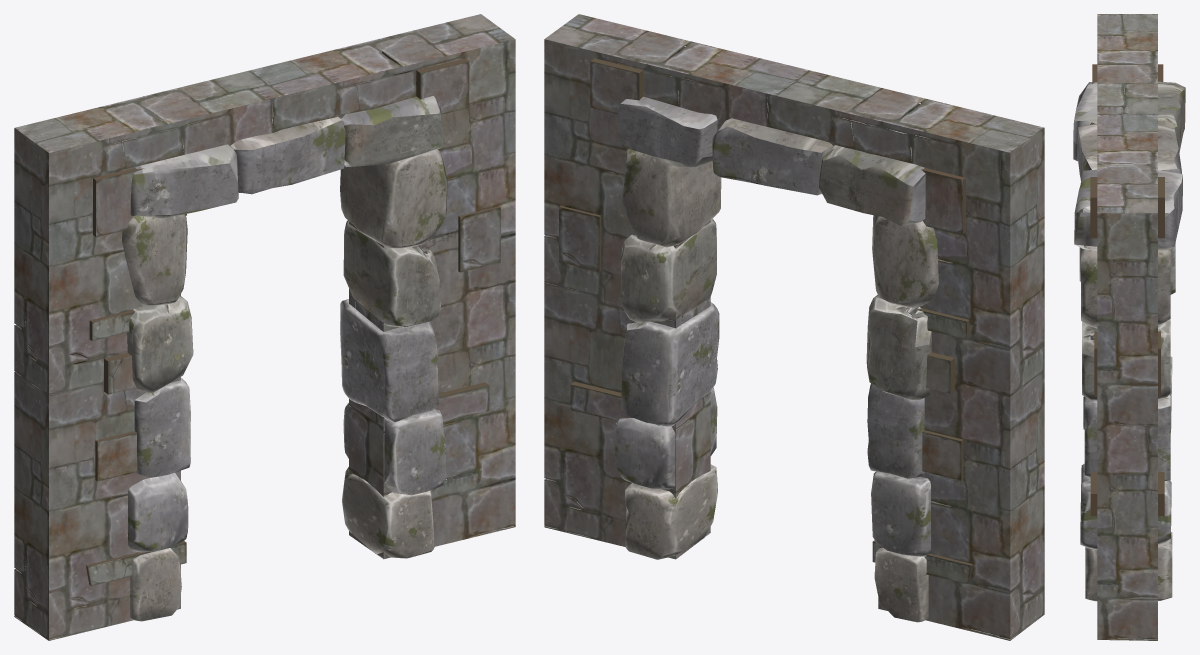
3 views of the same model, side by side, from view 1: azimuth 30°, elevation 25°; view 2: azimuth 150°, elevation 25°; view 3: azimuth 270°, elevation 25° (orthographic). The views are drawn at different scales.
Visible parts, largest first — view 1: SM_BB_T3_Wall_Large_Doorframe_LOD0; view 2: SM_BB_T3_Wall_Large_Doorframe_LOD0; view 3: SM_BB_T3_Wall_Large_Doorframe_LOD0.
Boxes of the visible parts, box(x1,y1,x2,y2) form: SM_BB_T3_Wall_Large_Doorframe_LOD0: box(14, 14, 515, 640); SM_BB_T3_Wall_Large_Doorframe_LOD0: box(544, 14, 1044, 640); SM_BB_T3_Wall_Large_Doorframe_LOD0: box(1073, 14, 1185, 640).
Size of the model in its own units: 3 by 3.01 by 0.7159.
Materials: 2 (2 with a texture image).
